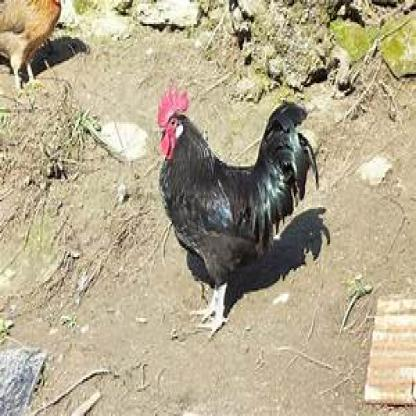chicken: (151, 89, 322, 336)
